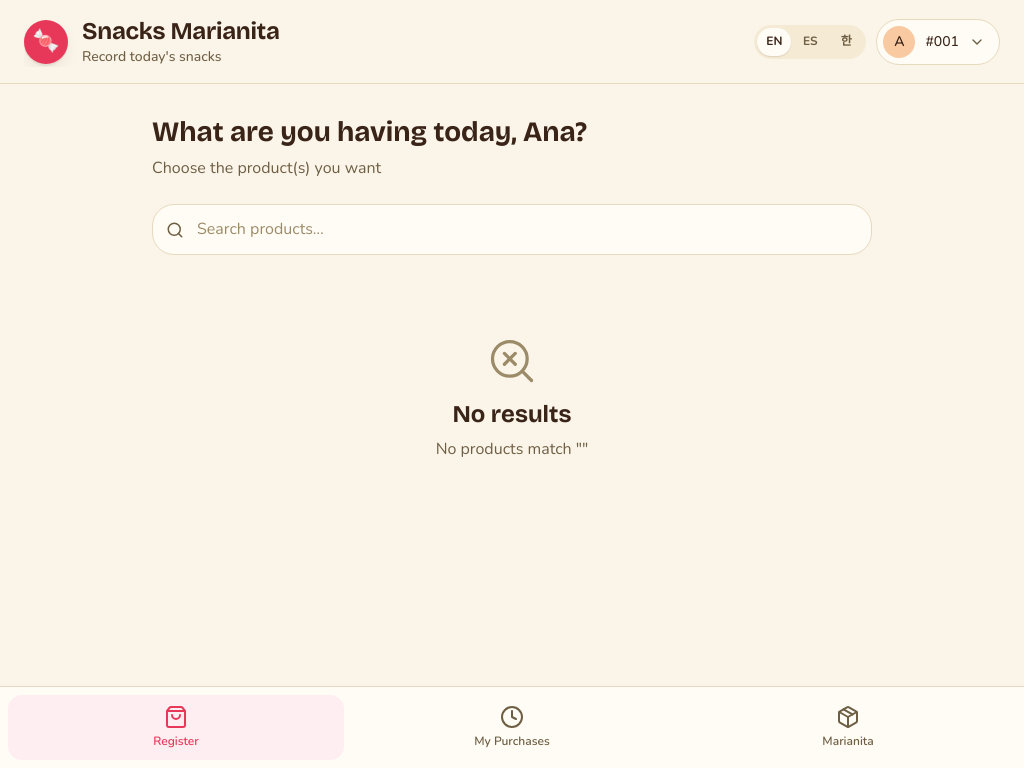
Test: App — navegación › navegar a "My Purchases" cambia la vista
The image size is (1024, 768).
Expected: the text "My Purchases" is shown, [474,733,550,750]
Click the button "My Purchases". click: (512, 728)
box: [344,695,680,760]
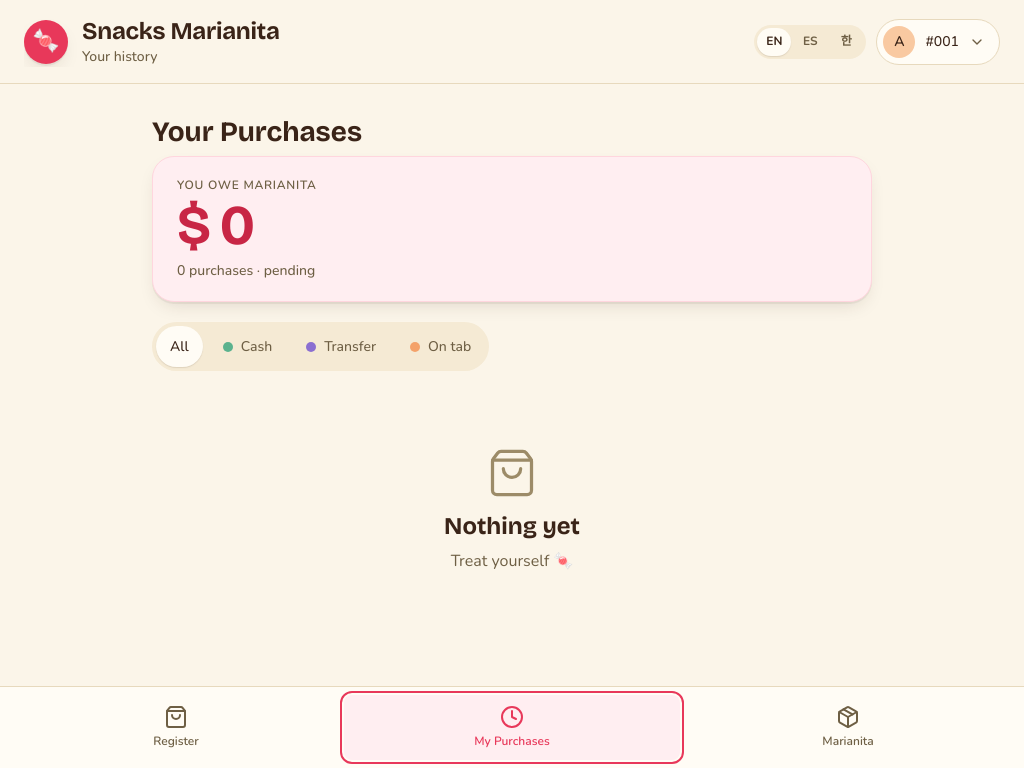
Result: the heading "Your Purchases" is shown at [152,115,362,149]
